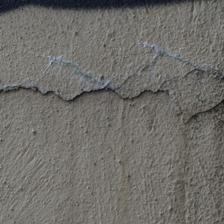Crack: (2, 165, 174, 224), (132, 10, 204, 73), (68, 75, 125, 147), (15, 12, 50, 44)
